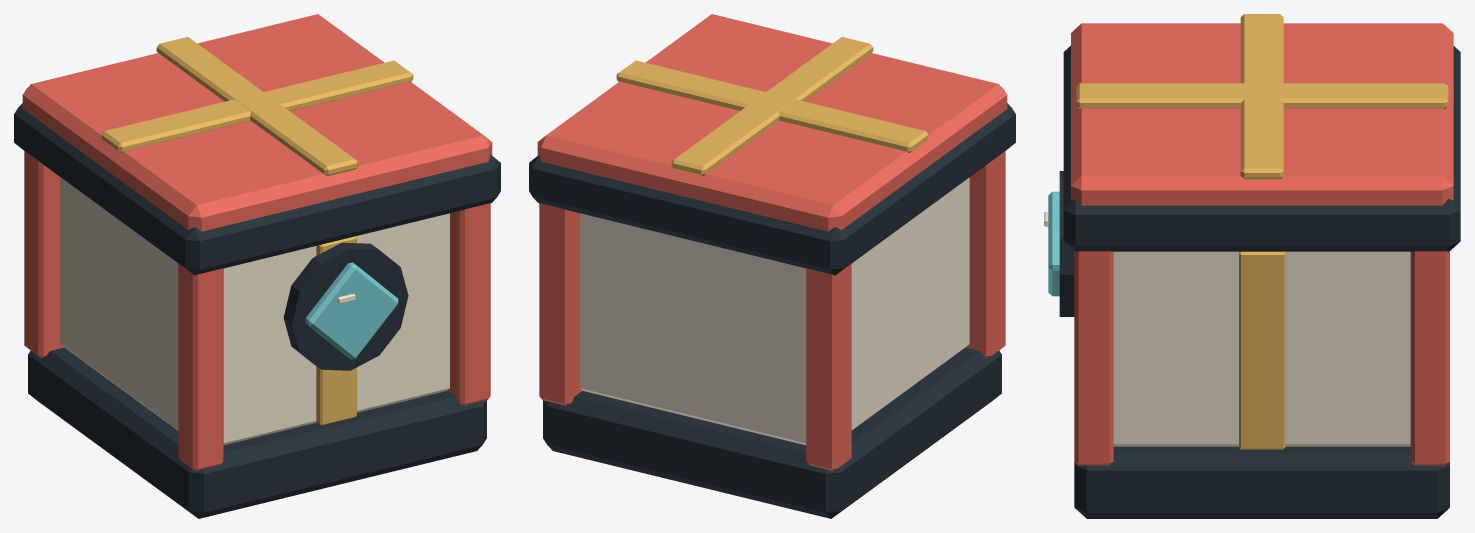
The model's file is gift_crate_v1.glb.
3 renders of one model, left to right at view 1: azimuth 30°, elevation 25°; view 2: azimuth 150°, elevation 25°; view 3: azimuth 270°, elevation 25°, orthographic. The views are drawn at different scales.
Parts seen in each view (by area): view 1: Crate / lid coral, Crate / warm body, Crate / shadow plinth, Crate / lid dark lip, Crate / corner post -0.47 -0.47, Crate / corner post +0.47 -0.47, Crate / twelve sided seal, Crate / corner post -0.47 +0.47, Crate / lid brass cross east-west, Crate / lid brass cross north-south, Crate / teal lozenge, Crate / front ribbon; view 2: Crate / warm body, Crate / lid coral, Crate / shadow plinth, Crate / lid dark lip, Crate / corner post -0.47 +0.47, Crate / corner post +0.47 +0.47, Crate / corner post -0.47 -0.47, Crate / lid brass cross east-west, Crate / lid brass cross north-south; view 3: Crate / lid coral, Crate / warm body, Crate / shadow plinth, Crate / lid dark lip, Crate / right ribbon, Crate / lid brass cross north-south, Crate / corner post +0.47 +0.47, Crate / corner post +0.47 -0.47, Crate / lid brass cross east-west, Crate / twelve sided seal, Crate / teal lozenge.
Boxes of the visible parts, <box> form: Crate / lid coral: <box>22,14,492,231</box>; Crate / warm body: <box>60,177,449,445</box>; Crate / shadow plinth: <box>28,347,486,518</box>; Crate / lid dark lip: <box>14,103,500,275</box>; Crate / corner post -0.47 -0.47: <box>178,264,223,471</box>; Crate / corner post +0.47 -0.47: <box>448,203,490,405</box>; Crate / twelve sided seal: <box>283,242,408,370</box>; Crate / corner post -0.47 +0.47: <box>24,151,63,358</box>; Crate / lid brass cross east-west: <box>101,60,413,152</box>; Crate / lid brass cross north-south: <box>156,37,358,176</box>; Crate / teal lozenge: <box>305,262,398,359</box>; Crate / front ribbon: <box>316,236,356,425</box>; Crate / warm body: <box>580,177,969,445</box>; Crate / lid coral: <box>537,14,1007,231</box>; Crate / shadow plinth: <box>543,347,1001,518</box>; Crate / lid dark lip: <box>529,103,1015,275</box>; Crate / corner post -0.47 +0.47: <box>806,264,851,471</box>; Crate / corner post +0.47 +0.47: <box>539,203,581,405</box>; Crate / corner post -0.47 -0.47: <box>966,151,1005,358</box>; Crate / lid brass cross east-west: <box>616,60,928,152</box>; Crate / lid brass cross north-south: <box>671,37,873,176</box>; Crate / lid coral: <box>1071,23,1453,205</box>; Crate / warm body: <box>1113,251,1410,446</box>; Crate / shadow plinth: <box>1074,446,1449,518</box>; Crate / lid dark lip: <box>1063,46,1460,251</box>; Crate / right ribbon: <box>1239,251,1285,449</box>; Crate / lid brass cross north-south: <box>1076,83,1448,109</box>; Crate / corner post +0.47 +0.47: <box>1410,251,1449,465</box>; Crate / corner post +0.47 -0.47: <box>1074,251,1113,465</box>; Crate / lid brass cross east-west: <box>1240,14,1283,179</box>; Crate / twelve sided seal: <box>1059,171,1074,316</box>; Crate / teal lozenge: <box>1048,191,1059,296</box>.
Bounding box in the file's own units: 1.11 × 1.09 × 1.16.
